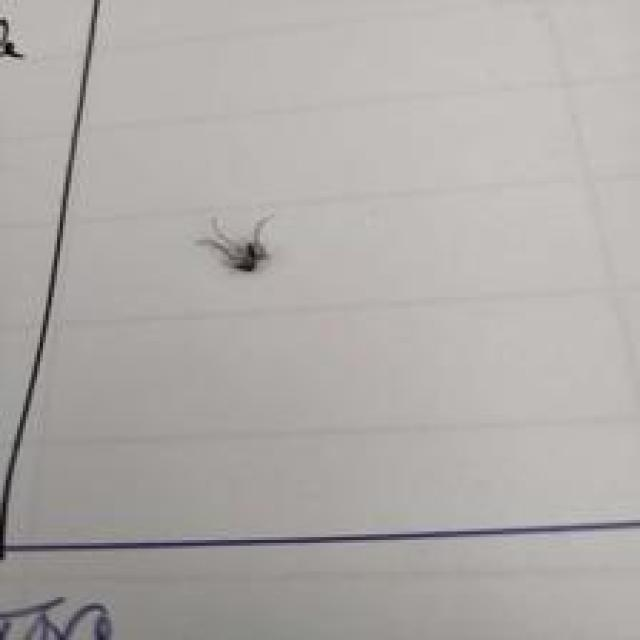Aedes albopictus: (194, 212, 274, 274)
